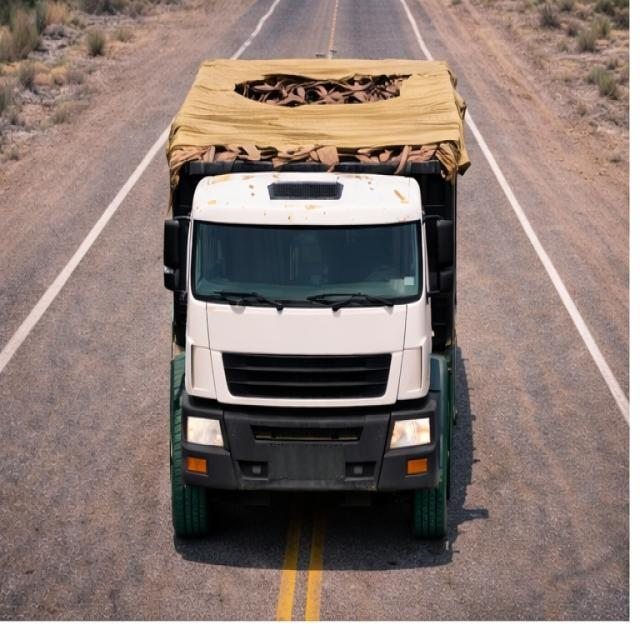Box: (170, 55, 463, 164)
Truck: (139, 46, 497, 554)
